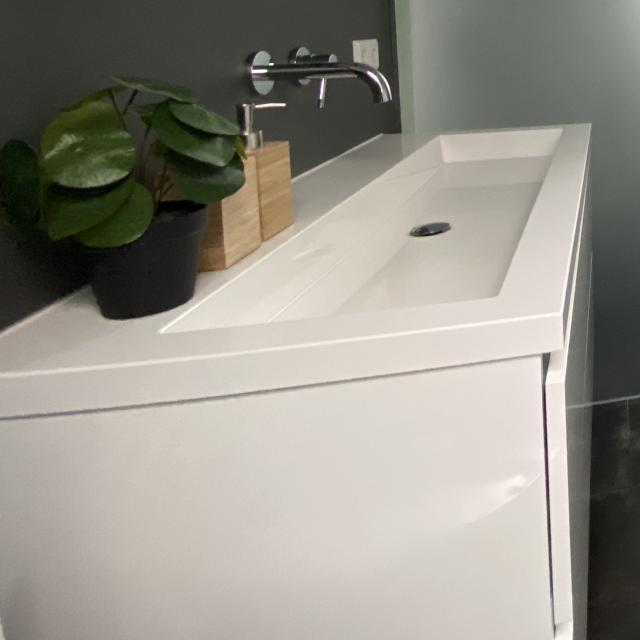wastafel: (0, 121, 594, 640), (0, 44, 593, 349)
